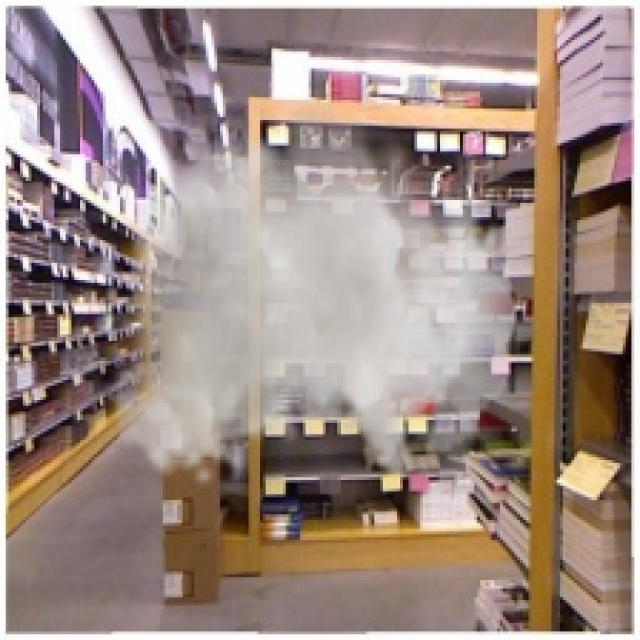Smoke: (111, 80, 518, 489)
